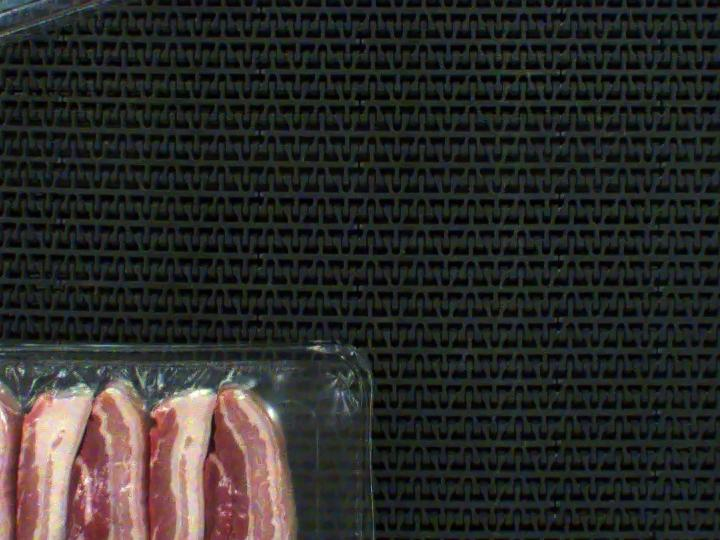unsealed: (0, 361, 358, 540)
